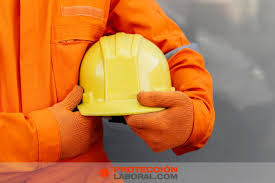Casco de seguridad: (73, 29, 192, 121)
